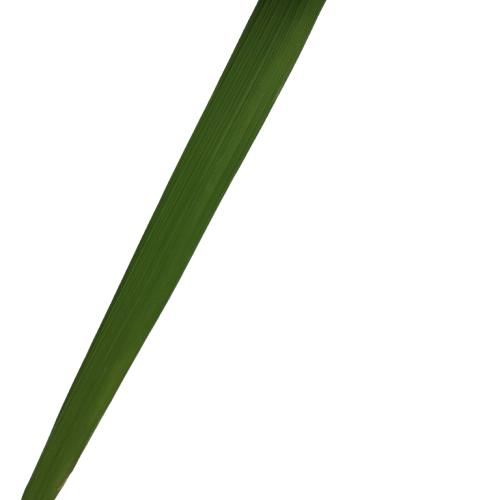Healthy: (22, 0, 326, 499)
